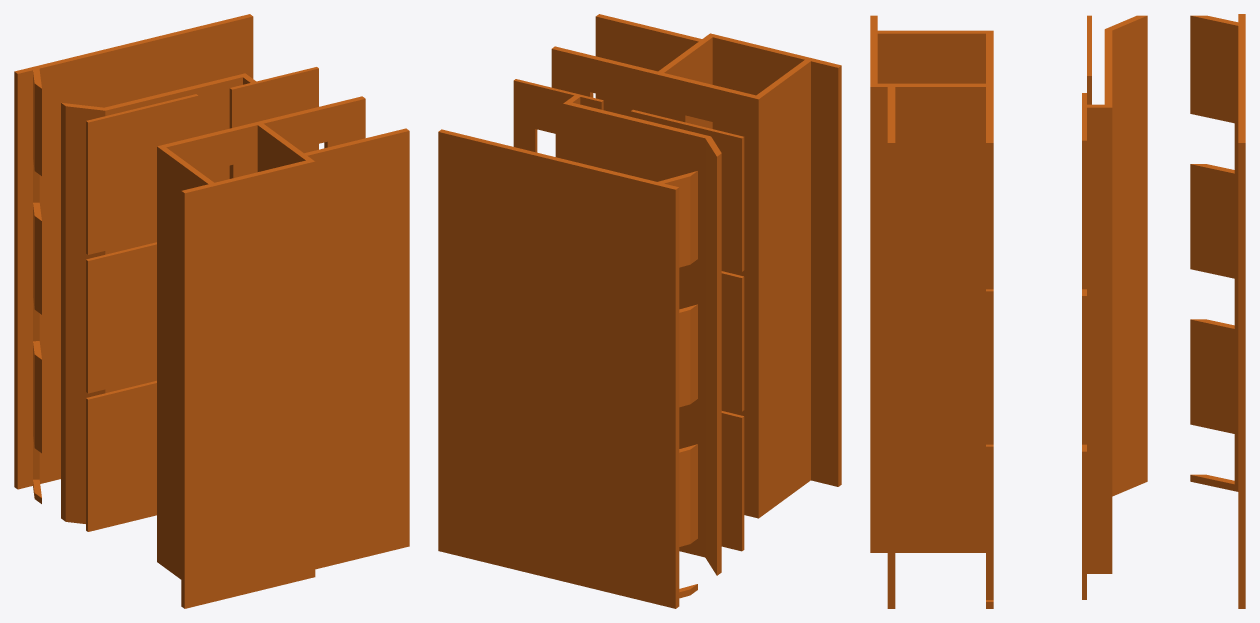
Rendered from component-core.gltf.
The picture shows the model from 3 angles, left to right: view 1: azimuth 30°, elevation 25°; view 2: azimuth 150°, elevation 25°; view 3: azimuth 270°, elevation 25°; orthographic projection. The views are drawn at different scales.
Parts seen in each view (by area): view 1: 核心筒; view 2: 核心筒; view 3: 核心筒.
Boxes of the visible parts, <box> form: 核心筒: <box>14,14,409,608</box>; 核心筒: <box>438,14,841,608</box>; 核心筒: <box>870,14,1245,608</box>.
Size of the model in its own units: 6.05 by 10.2 by 7.45.
